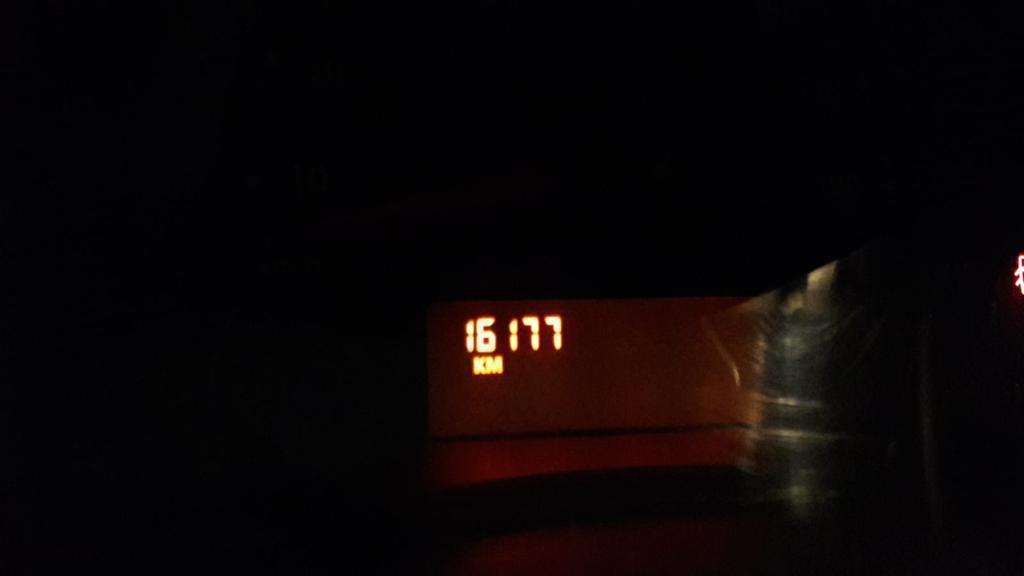1: (507, 318, 518, 352), (464, 319, 474, 353)
6: (475, 316, 497, 352)
7: (521, 315, 540, 352), (543, 315, 562, 350)
X: (485, 354, 503, 374), (471, 355, 486, 376)
odometer: (421, 293, 767, 441)
